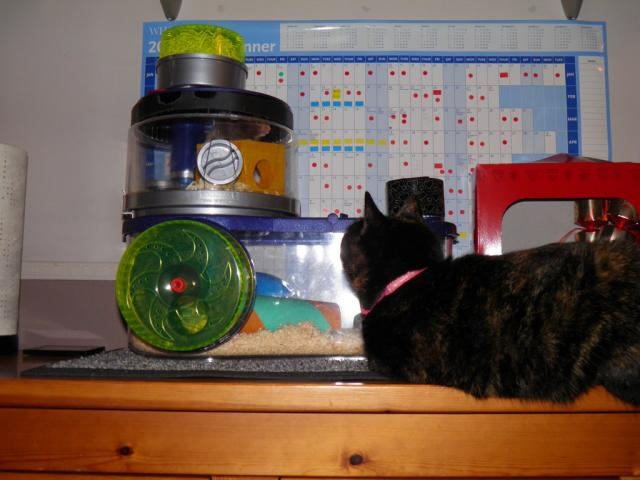Cat: (339, 191, 640, 412)
